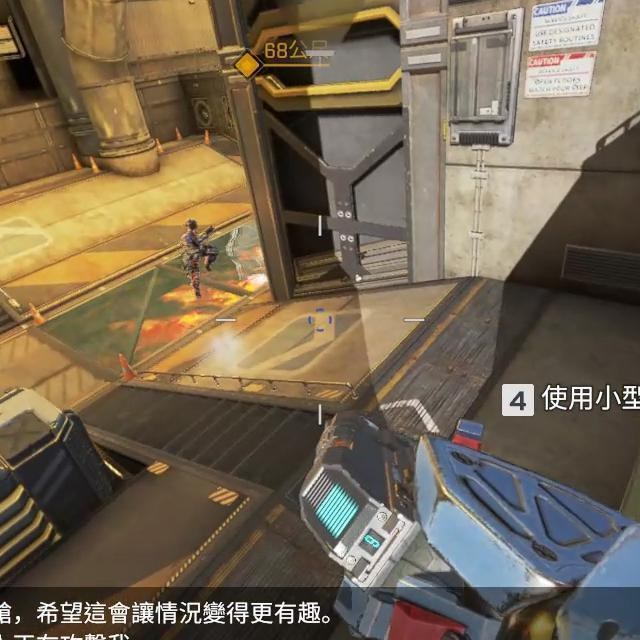avatar: (179, 216, 218, 299)
